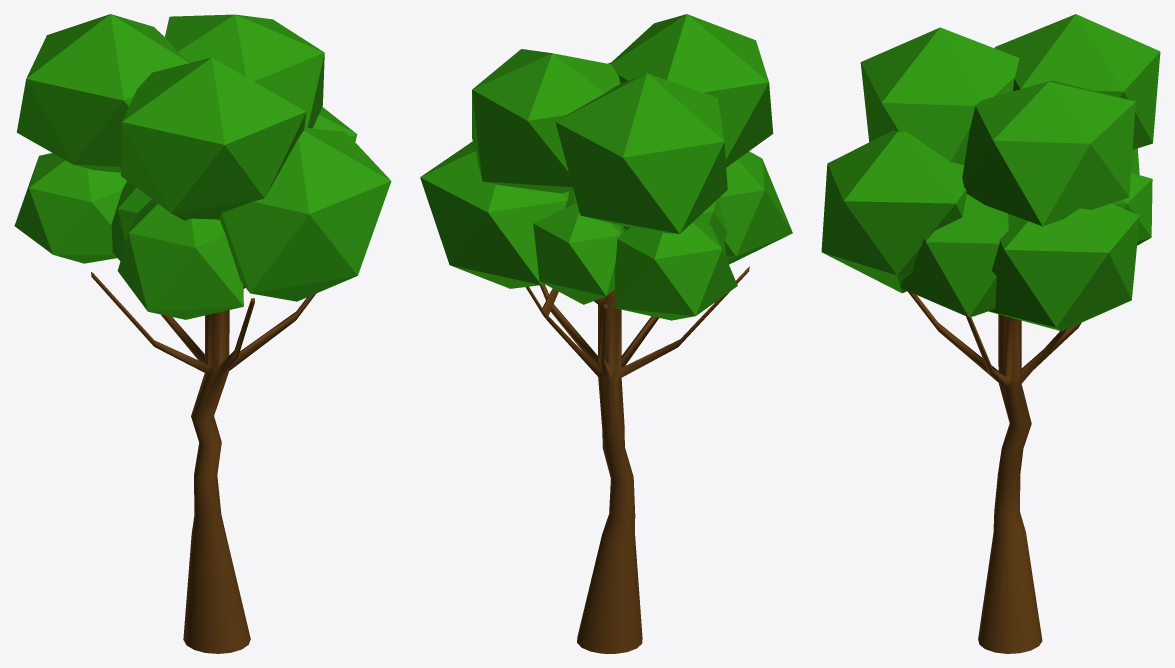
The model's file is Tree_2.fbx.
3 renders of one model, left to right at view 1: azimuth 30°, elevation 25°; view 2: azimuth 150°, elevation 25°; view 3: azimuth 270°, elevation 25°, orthographic. The views are drawn at different scales.
Parts seen in each view (by area): view 1: Icosphere.001; view 2: Icosphere.001; view 3: Icosphere.001.
Part boxes in pixels (x1,y1,x2,y2): Icosphere.001: [14, 14, 391, 653]; Icosphere.001: [420, 14, 792, 653]; Icosphere.001: [821, 14, 1160, 653].
Size of the model in its own units: 441 by 860 by 445.
